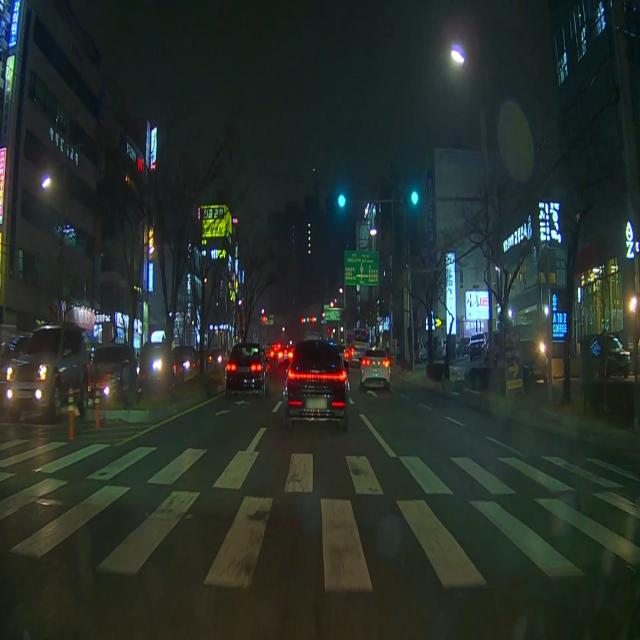Green Light: (338, 193, 346, 209), (411, 191, 419, 205)
